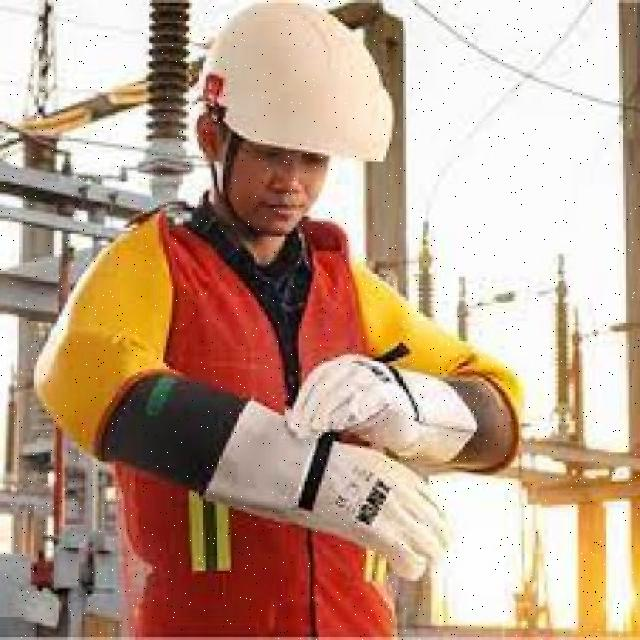Hard_hat: (205, 0, 395, 163)
